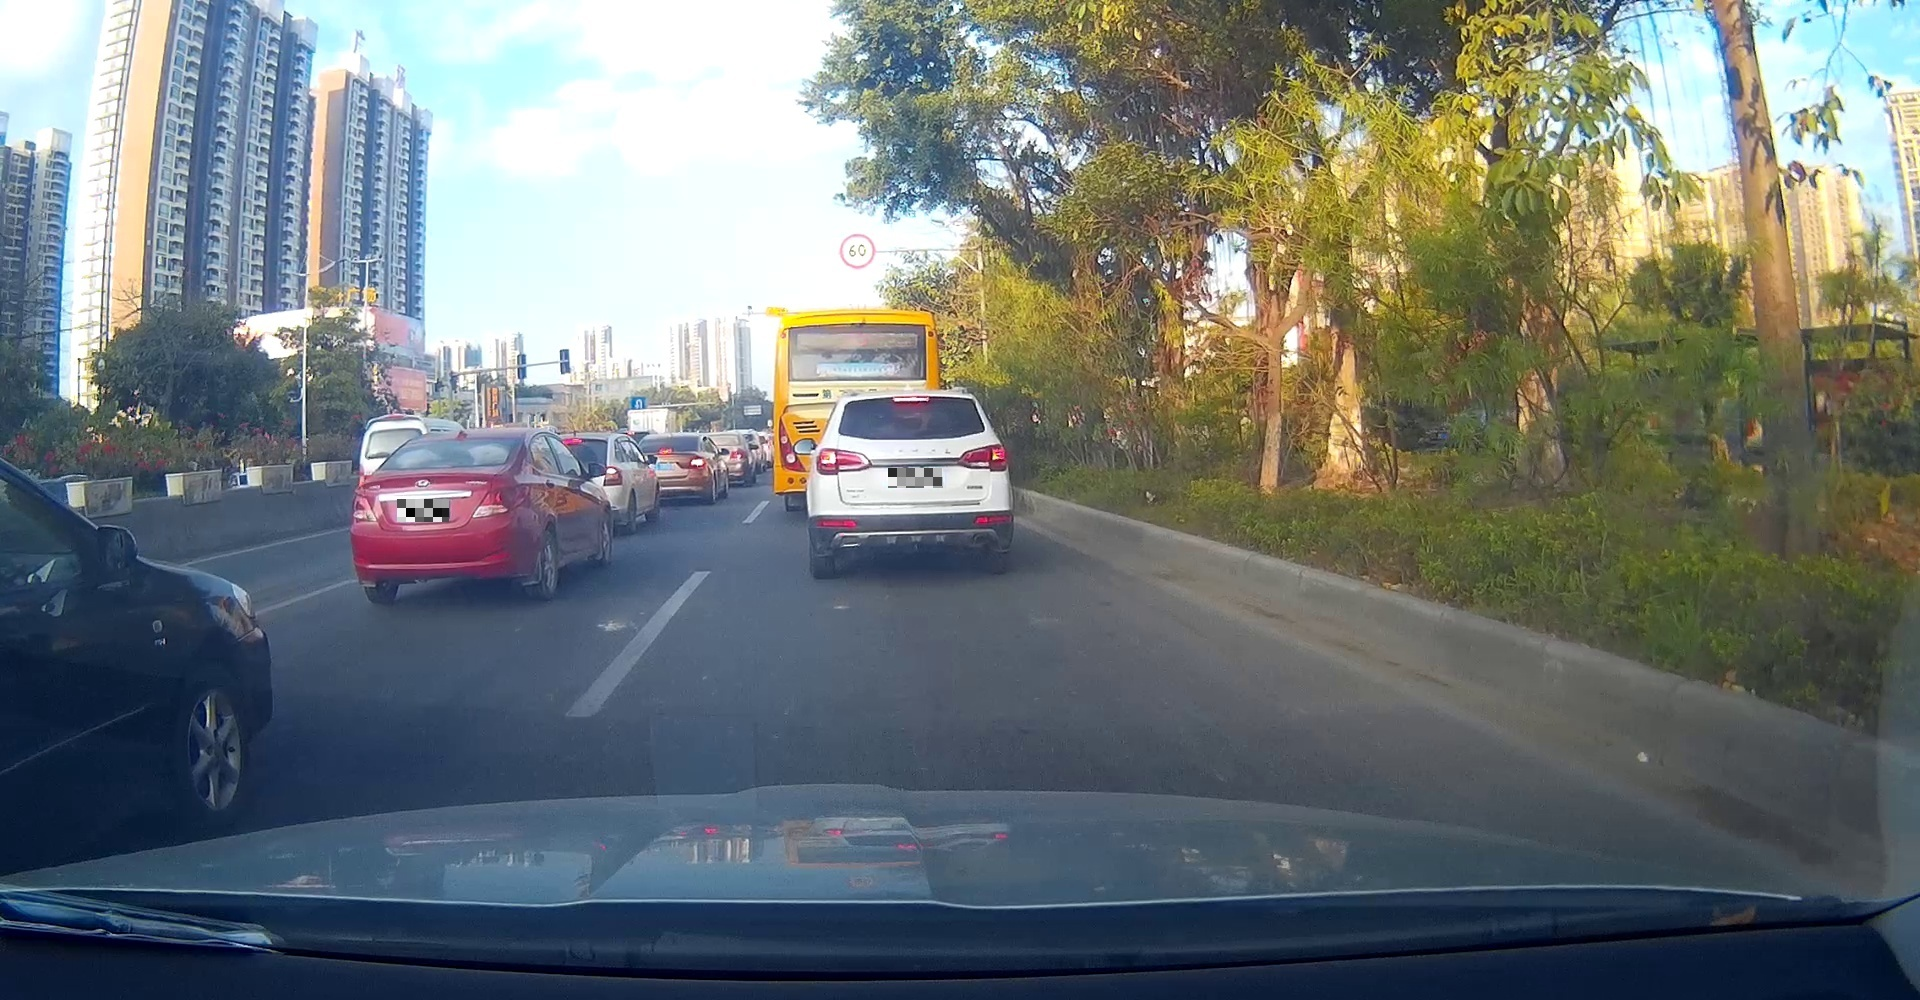L_light: (817, 448, 872, 476), (350, 494, 381, 525)
R_light: (472, 485, 530, 519), (956, 443, 1010, 473)
T_light: (891, 396, 930, 402), (425, 464, 451, 470)
day-brake: (806, 390, 1015, 577)
day-no: (349, 428, 530, 604)
plate_1: (397, 499, 450, 522)
plate_2: (888, 468, 943, 489)
